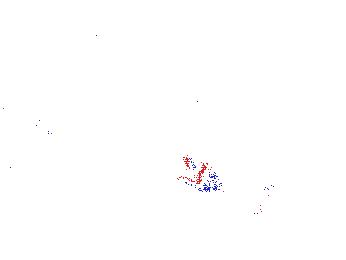flame jellyfish: (178, 155, 262, 223), (32, 73, 78, 138), (260, 151, 313, 204)
